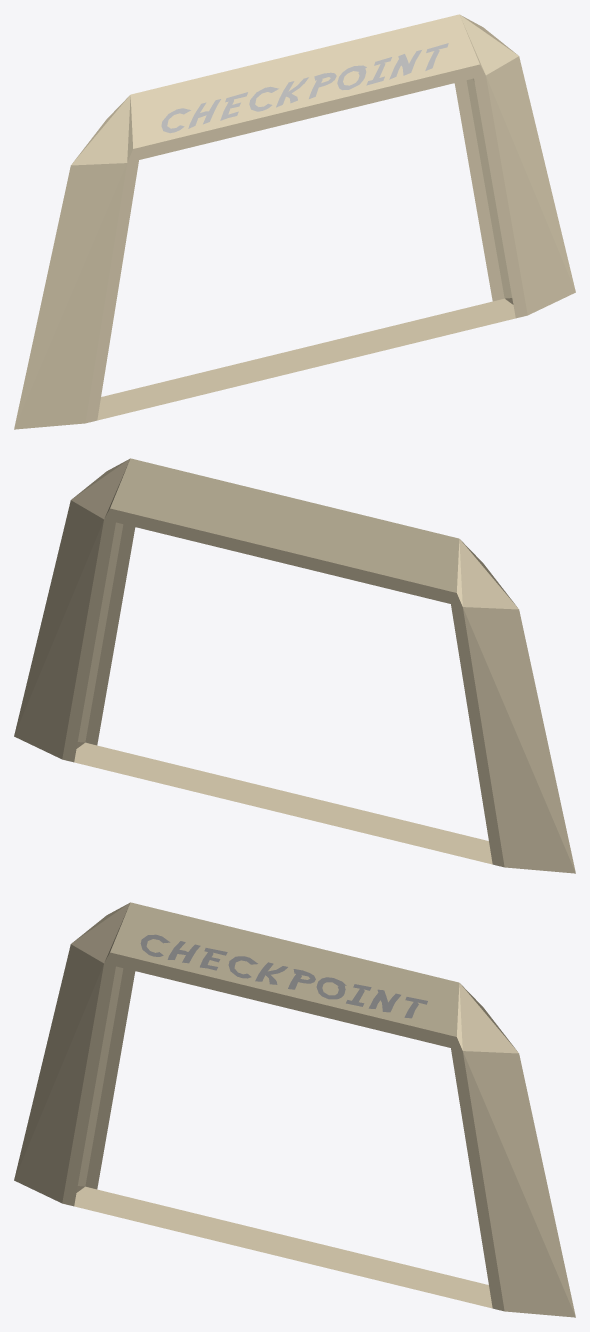
The model's file is dchk.glb.
3 renders of one model, top to bottom at view 1: azimuth 30°, elevation 25°; view 2: azimuth 150°, elevation 25°; view 3: azimuth 330°, elevation 25°, orthographic.
Visible parts, largest first — view 1: dchk; view 2: dchk; view 3: dchk.
Part boxes in pixels (x1,y1,x2,y2): dchk: (14, 14, 575, 429); dchk: (14, 458, 575, 873); dchk: (14, 902, 575, 1317).
Bounding box in the file's own units: 16.92 × 8.82 × 1.21.
